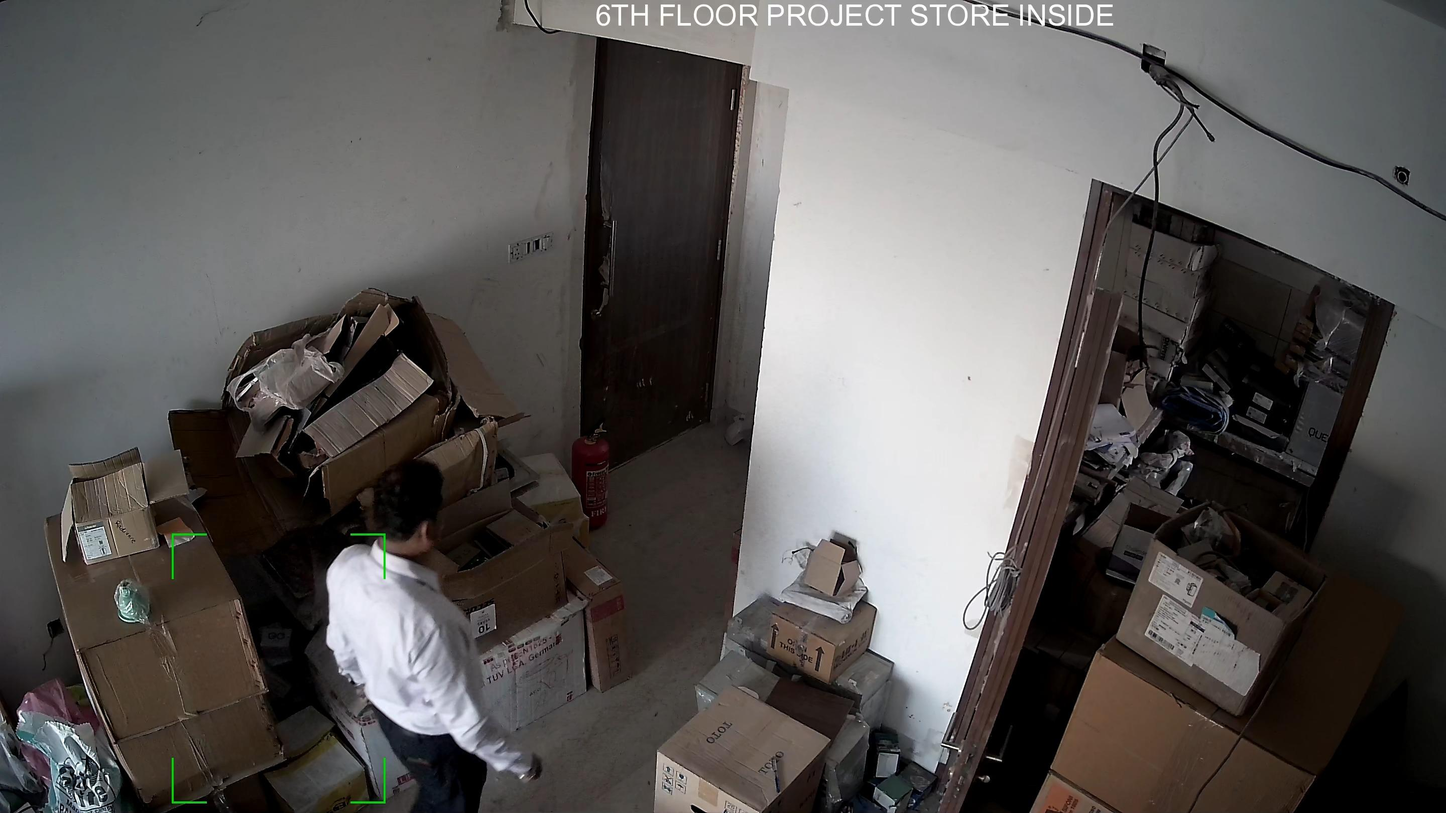Door-Close: (557, 31, 747, 481)
